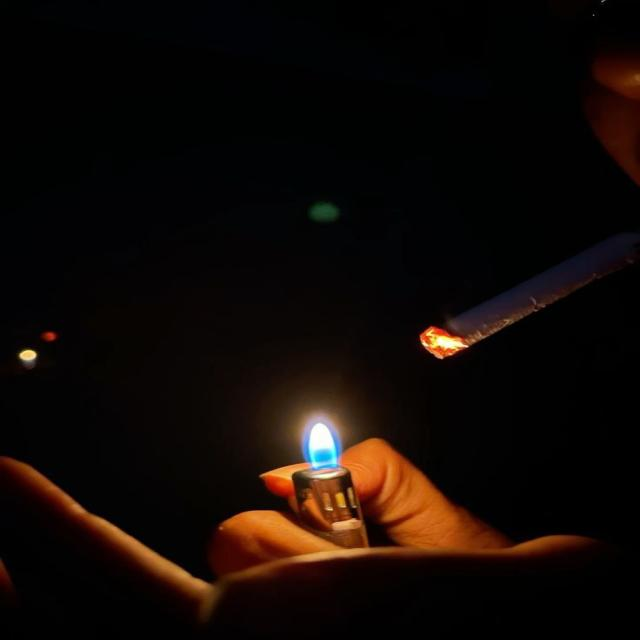fire: (301, 410, 341, 470), (421, 326, 467, 359)
